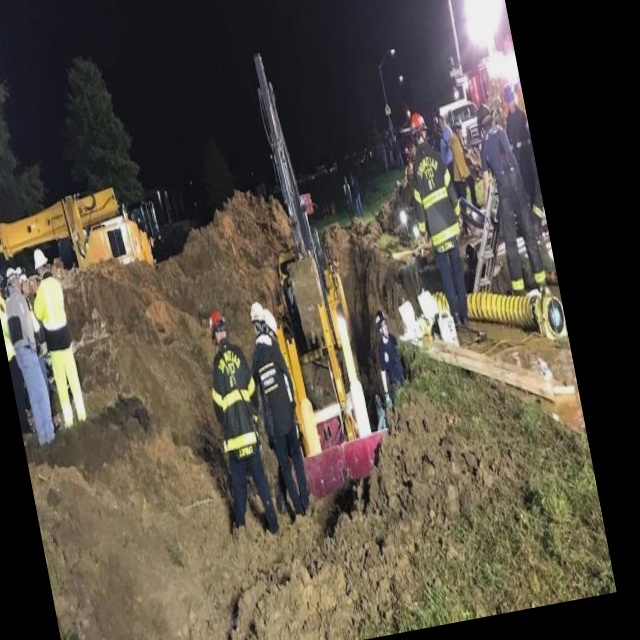Con_Casco: (204, 308, 228, 346), (31, 246, 49, 277)
Con_Chaleco: (31, 272, 73, 353)
